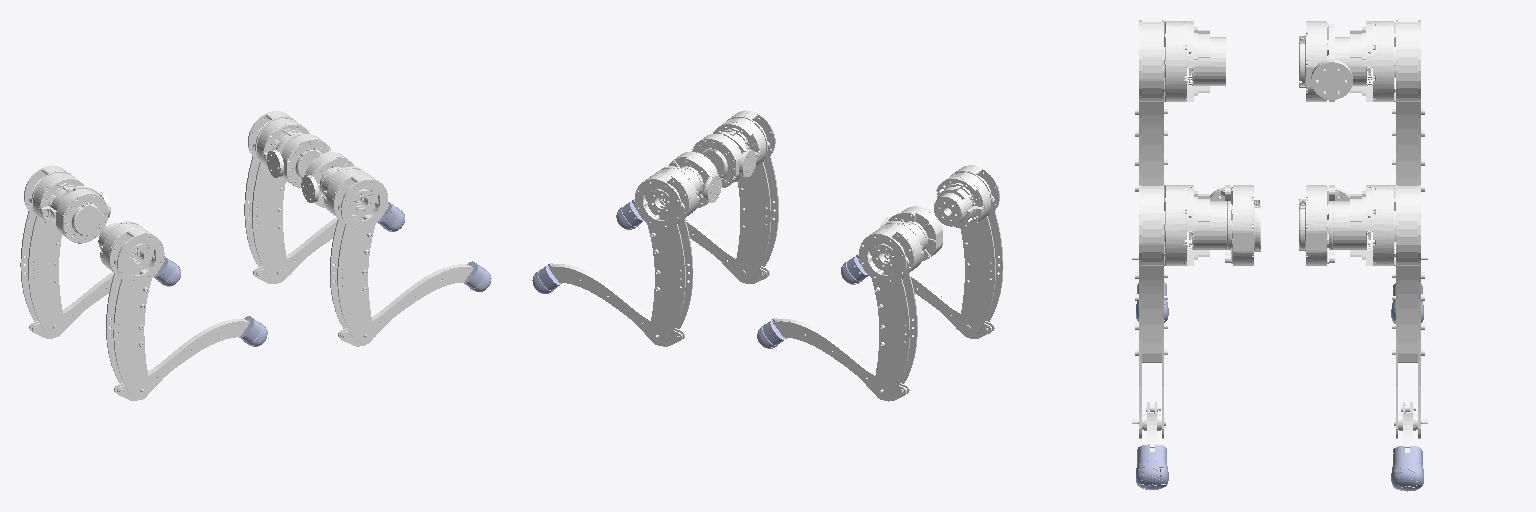
The robot description file, URDF, robot "RC7":
<?xml version="1.0" encoding="utf-8"?>
<!-- This URDF was automatically created by SolidWorks to URDF Exporter! Originally created by Stephen Brawner (brawner@gmail.com) 
     Commit Version: 1.6.0-4-g7f85cfe  Build Version: 1.6.7995.38578
     For more information, please see http://wiki.ros.org/sw_urdf_exporter -->
<robot
  name="RC7">
  <link
    name="base_link">
    <inertial>
      <origin
        xyz="0.048 0.0022145 0.041541"
        rpy="0 0 0" />
      <mass
        value="7.2" />
      <inertia
        ixx="0.0488310"
        ixy="0.0015749"
        ixz="-0.0002747"
        iyy="0.1497042"
        iyz="-0.0000445"
        izz="0.1695514" />
    </inertial>
    <visual>
      <origin
        xyz="0 0 0"
        rpy="0 0 0" />
      <geometry>
        <mesh
          filename="../meshes/base_link.STL" />
      </geometry>
      <material
        name="">
        <color
          rgba="1 1 1 1" />
      </material>
    </visual>
    <collision>
      <origin
        xyz="0 0 0.04290"
        rpy="0 0 0" />
      <geometry>
        <box
          size="0.34 0.20000 0.15980" />
      </geometry>
    </collision>
  </link>
  <link
    name="FL_hip">
    <inertial>
      <origin
        xyz="-0.0053275 -0.01473 -5.5989E-05"
        rpy="0 0 0" />
      <mass
        value="0.75" />
      <inertia
        ixx="0.0005062"
        ixy="0.0000569"
        ixz="0.0000014"
        iyy="0.0009411"
        iyz="-0.0000006"
        izz="0.0006052" />
    </inertial>
    <visual>
      <origin
        xyz="0 0 0"
        rpy="0 0 0" />
      <geometry>
        <mesh
          filename="../meshes/FL_Link.STL" />
      </geometry>
      <material
        name="">
        <color
          rgba="1 1 1 1" />
      </material>
    </visual>
    <!-- <collision>
      <origin
        xyz="0 0 0"
        rpy="0 0 0" />
      <geometry>
        <mesh
          filename="../meshes/FL_Link.STL" />
      </geometry>
    </collision> -->
  </link>
  <joint
    name="FL_hip_joint"
    type="revolute">
    <origin
      xyz="0.23285 0.0625 0.05425"
      rpy="0 0 0" />
    <parent
      link="base_link" />
    <child
      link="FL_hip" />
    <axis
      xyz="1 0 0" />
    <limit
      lower="-1.05"
      upper="1.05"
      effort="23"
      velocity="30" />
  </joint>
  <link
    name="FL_thigh">
    <inertial>
      <origin
        xyz="-0.0019583 -0.025187 -0.035454"
        rpy="0 0 0" />
      <mass
        value="1" />
      <inertia
        ixx="0.0061153"
        ixy="0.0000333"
        ixz="-0.0003151"
        iyy="0.0058528"
        iyz="0.0009368"
        izz="0.0012212" />
    </inertial>
    <visual>
      <origin
        xyz="0 0 0"
        rpy="0 0 0" />
      <geometry>
        <mesh
          filename="../meshes/FL_thigh_Link.STL" />
      </geometry>
      <material
        name="">
        <color
          rgba="1 1 1 1" />
      </material>
    </visual>
    <collision>
      <origin
        xyz="-0.003 -0.008 -0.002"
        rpy="1.57079632679 0 0" />
      <geometry>
        <cylinder
          radius="0.0450"
          length="0.05" />
      </geometry>
    </collision>
    <collision>
      <origin
        xyz="-0.0220 0 -0.1400"
        rpy="0 0 0" />
      <geometry>
        <cylinder
          radius="0.0205"
          length="0.1620" />
      </geometry>
    </collision>
  </link>
  <joint
    name="FL_thigh_joint"
    type="revolute">
    <origin
      xyz="0 0.0904 0"
      rpy="0 0 0" />
    <parent
      link="FL_hip" />
    <child
      link="FL_thigh" />
    <axis
      xyz="0 1 0" />
    <limit
      lower="-1.57"
      upper="3.49"
      effort="23"
      velocity="30" />
  </joint>
  <link
    name="FL_calf">
    <inertial>
      <origin
        xyz="0.017233 1.9015E-06 -0.1092"
        rpy="0 0 0" />
      <mass
        value="0.1" />
      <inertia
        ixx="0.0006180"
        ixy="0.0000000"
        ixz="0.0000898"
        iyy="0.0006417"
        iyz="0.0000000"
        izz="0.0000263" />
    </inertial>
    <visual>
      <origin
        xyz="0 0 0"
        rpy="0 0 0" />
      <geometry>
        <mesh
          filename="../meshes/FL_calf_Link.STL" />
      </geometry>
      <material
        name="">
        <color
          rgba="1 1 1 1" />
      </material>
    </visual>
    <collision>
      <origin
        xyz="0.0155 0 -0.1250"
        rpy="0 0 0" />
      <geometry>
        <cylinder
          radius="0.0125"
          length="0.2500" />
      </geometry>
    </collision>
  </link>
  <joint
    name="FL_calf_joint"
    type="revolute">
    <origin
      xyz="0 0 -0.26"
      rpy="0 0 0" />
    <parent
      link="FL_thigh" />
    <child
      link="FL_calf" />
    <axis
      xyz="0 1 0" />
    <limit
      lower="-2.72"
      upper="-0.84"
      effort="23"
      velocity="30" />
  </joint>
  <link
    name="FL_foot">
    <inertial>
      <origin
        xyz="0.0093418 0.00026524 0.0066036"
        rpy="0 0 0" />
      <mass
        value="0.05" />
      <inertia
        ixx="0.0000114"
        ixy="-0.0000001"
        ixz="-0.0000008"
        iyy="0.0000137"
        iyz="0.0000000"
        izz="0.0000120" />
    </inertial>
    <visual>
      <origin
        xyz="0 0 0"
        rpy="0 0 0" />
      <geometry>
        <mesh
          filename="../meshes/FL_foot_Link.STL" />
      </geometry>
      <material
        name="">
        <color
          rgba="0.79216 0.81961 0.93333 1" />
      </material>
    </visual>
    <collision>
      <origin
        xyz="0.0043 0.0002 0.0050"
        rpy="0 0 0" />
      <geometry>
        <sphere
          radius="0.0212" />
      </geometry>
    </collision>
    <collision>
      <origin
        xyz="0.0205 0.0002 0.035"
        rpy="0 0 0" />
      <geometry>
        <box
          size="0.027 0.020 0.015" />
      </geometry>
    </collision>
  </link>
  <joint
    name="FL_foot_joint"
    type="fixed"
    dont_collapse="true">
    <origin
      xyz="-0.012048 0 -0.25093"
      rpy="0 0 0" />
    <parent
      link="FL_calf" />
    <child
      link="FL_foot" />
    <axis
      xyz="0 0 0" />
  </joint>
  <link
    name="FR_hip">
    <inertial>
      <origin
        xyz="-0.0053275 0.01473 5.6037E-05"
        rpy="0 0 0" />
      <mass
        value="0.75" />
      <inertia
        ixx="0.0005062"
        ixy="-0.0000569"
        ixz="-0.0000014"
        iyy="0.0009411"
        iyz="-0.0000006"
        izz="0.0006052" />
    </inertial>
    <visual>
      <origin
        xyz="0 0 0"
        rpy="0 0 0" />
      <geometry>
        <mesh
          filename="../meshes/FR_Link.STL" />
      </geometry>
      <material
        name="">
        <color
          rgba="1 1 1 1" />
      </material>
    </visual>
    <!-- <collision>
      <origin
        xyz="0 0 0"
        rpy="0 0 0" />
      <geometry>
        <mesh
          filename="../meshes/FR_Link.STL" />
      </geometry>
    </collision> -->
  </link>
  <joint
    name="FR_hip_joint"
    type="revolute">
    <origin
      xyz="0.23285 -0.0625 0.05425"
      rpy="0 0 0" />
    <parent
      link="base_link" />
    <child
      link="FR_hip" />
    <axis
      xyz="1 0 0" />
    <limit
      lower="-1.05"
      upper="1.05"
      effort="23"
      velocity="30" />
  </joint>
  <link
    name="FR_thigh">
    <inertial>
      <origin
        xyz="-0.0019583 0.025187 -0.035454"
        rpy="0 0 0" />
      <mass
        value="1" />
      <inertia
        ixx="0.0061153"
        ixy="-0.0000333"
        ixz="-0.0003151"
        iyy="0.0058528"
        iyz="-0.0009368"
        izz="0.0012212" />
    </inertial>
    <visual>
      <origin
        xyz="0 0 0"
        rpy="0 0 0" />
      <geometry>
        <mesh
          filename="../meshes/FR_thigh_link.STL" />
      </geometry>
      <material
        name="">
        <color
          rgba="1 1 1 1" />
      </material>
    </visual>
    <collision>
      <origin
        xyz="-0.003 0.008 -0.002"
        rpy="1.57079632679 0 0" />
      <geometry>
        <cylinder
          radius="0.0450"
          length="0.05" />
      </geometry>
    </collision>
    <collision>
      <origin
        xyz="-0.0220 0 -0.1400"
        rpy="0 0 0" />
      <geometry>
        <cylinder
          radius="0.0205"
          length="0.1620" />
      </geometry>
    </collision>
  </link>
  <joint
    name="FR_thigh_joint"
    type="revolute">
    <origin
      xyz="0 -0.0904 0"
      rpy="0 0 0" />
    <parent
      link="FR_hip" />
    <child
      link="FR_thigh" />
    <axis
      xyz="0 1 0" />
    <limit
      lower="-1.57"
      upper="3.49"
      effort="23"
      velocity="30" />
  </joint>
  <link
    name="FR_calf">
    <inertial>
      <origin
        xyz="0.017233 1.9015E-06 -0.1092"
        rpy="0 0 0" />
      <mass
        value="0.1" />
      <inertia
        ixx="0.0006180"
        ixy="0.0000000"
        ixz="0.0000898"
        iyy="0.0006417"
        iyz="0.0000000"
        izz="0.0000263" />
    </inertial>
    <visual>
      <origin
        xyz="0 0 0"
        rpy="0 0 0" />
      <geometry>
        <mesh
          filename="../meshes/FR_calf_link.STL" />
      </geometry>
      <material
        name="">
        <color
          rgba="1 1 1 1" />
      </material>
    </visual>
    <collision>
      <origin
        xyz="0.0155 0 -0.1250"
        rpy="0 0 0" />
      <geometry>
        <cylinder
          radius="0.0125"
          length="0.2500" />
      </geometry>
    </collision>
  </link>
  <joint
    name="FR_calf_joint"
    type="revolute">
    <origin
      xyz="0 0 -0.26"
      rpy="0 0 0" />
    <parent
      link="FR_thigh" />
    <child
      link="FR_calf" />
    <axis
      xyz="0 1 0" />
    <limit
      lower="-2.72"
      upper="-0.84"
      effort="23"
      velocity="30" />
  </joint>
  <link
    name="FR_foot">
    <inertial>
      <origin
        xyz="0.0093416 -0.00026524 0.0066039"
        rpy="0 0 0" />
      <mass
        value="0.05" />
      <inertia
        ixx="0.0000114"
        ixy="0.0000001"
        ixz="-0.0000008"
        iyy="0.0000137"
        iyz="0.0000000"
        izz="0.0000120" />
    </inertial>
    <visual>
      <origin
        xyz="0 0 0"
        rpy="0 0 0" />
      <geometry>
        <mesh
          filename="../meshes/FR_foot_link.STL" />
      </geometry>
      <material
        name="">
        <color
          rgba="0.79216 0.81961 0.93333 1" />
      </material>
    </visual>
    <collision>
      <origin
        xyz="0.0043 -0.0002 0.0050"
        rpy="0 0 0" />
      <geometry>
        <sphere
          radius="0.0212" />
      </geometry>
    </collision>
    <collision>
      <origin
        xyz="0.0205 -0.0002 0.035"
        rpy="0 0 0" />
      <geometry>
        <box
          size="0.027 0.020 0.015" />
      </geometry>
    </collision>
  </link>
  <joint
    name="FR_foot_joint"
    type="fixed"
    dont_collapse="true">
    <origin
      xyz="-0.0097399 0 -0.25419"
      rpy="0 0 0" />
    <parent
      link="FR_calf" />
    <child
      link="FR_foot" />
    <axis
      xyz="0 0 0" />
  </joint>
  <link
    name="RL_hip">
    <inertial>
      <origin
        xyz="0.0053275 -0.01473 5.6037E-05"
        rpy="0 0 0" />
      <mass
        value="0.75" />
      <inertia
        ixx="0.0005062"
        ixy="-0.0000569"
        ixz="0.0000014"
        iyy="0.0009411"
        iyz="0.0000006"
        izz="0.0006052" />
    </inertial>
    <visual>
      <origin
        xyz="0 0 0"
        rpy="0 0 0" />
      <geometry>
        <mesh
          filename="../meshes/RL_Link.STL" />
      </geometry>
      <material
        name="">
        <color
          rgba="1 1 1 1" />
      </material>
    </visual>
    <!-- <collision>
      <origin
        xyz="0 0 0"
        rpy="0 0 0" />
      <geometry>
        <mesh
          filename="../meshes/RL_Link.STL" />
      </geometry>
    </collision> -->
  </link>
  <joint
    name="RL_hip_joint"
    type="revolute">
    <origin
      xyz="-0.23285 0.0625000000000006 0.054250000000001"
      rpy="0 0 0" />
    <parent
      link="base_link" />
    <child
      link="RL_hip" />
    <axis
      xyz="1 0 0" />
    <limit
      lower="-1.05"
      upper="1.05"
      effort="23"
      velocity="30" />
  </joint>
  <link
    name="RL_thigh">
    <inertial>
      <origin
        xyz="-0.0019583 -0.025187 -0.035454"
        rpy="0 0 0" />
      <mass
        value="1" />
      <inertia
        ixx="0.0061153"
        ixy="0.0000333"
        ixz="-0.0003151"
        iyy="0.0058528"
        iyz="0.0009368"
        izz="0.0012212" />
    </inertial>
    <visual>
      <origin
        xyz="0 0 0"
        rpy="0 0 0" />
      <geometry>
        <mesh
          filename="../meshes/RL_thigh_link.STL" />
      </geometry>
      <material
        name="">
        <color
          rgba="1 1 1 1" />
      </material>
    </visual>
    <collision>
      <origin
        xyz="-0.003 -0.008 -0.002"
        rpy="1.57079632679 0 0" />
      <geometry>
        <cylinder
          radius="0.0450"
          length="0.05" />
      </geometry>
    </collision>
    <collision>
      <origin
        xyz="-0.0220 0 -0.1400"
        rpy="0 0 0" />
      <geometry>
        <cylinder
          radius="0.0205"
          length="0.1620" />
      </geometry>
    </collision>
  </link>
  <joint
    name="RL_thigh_joint"
    type="revolute">
    <origin
      xyz="0 0.0904 0"
      rpy="0 0 0" />
    <parent
      link="RL_hip" />
    <child
      link="RL_thigh" />
    <axis
      xyz="0 1 0" />
    <limit
      lower="-0.52"
      upper="4.54"
      effort="23"
      velocity="30" />
  </joint>
  <link
    name="RL_calf">
    <inertial>
      <origin
        xyz="0.017233 1.9015E-06 -0.1092"
        rpy="0 0 0" />
      <mass
        value="0.1" />
      <inertia
        ixx="0.0006180"
        ixy="0.0000000"
        ixz="0.0000898"
        iyy="0.0006417"
        iyz="0.0000000"
        izz="0.0000263" />
    </inertial>
    <visual>
      <origin
        xyz="0 0 0"
        rpy="0 0 0" />
      <geometry>
        <mesh
          filename="../meshes/RL_calf_link.STL" />
      </geometry>
      <material
        name="">
        <color
          rgba="1 1 1 1" />
      </material>
    </visual>
    <collision>
      <origin
        xyz="0.0155 0 -0.1250"
        rpy="0 0 0" />
      <geometry>
        <cylinder
          radius="0.0125"
          length="0.2500" />
      </geometry>
    </collision>
  </link>
  <joint
    name="RL_calf_joint"
    type="revolute">
    <origin
      xyz="0 0 -0.26"
      rpy="0 0 0" />
    <parent
      link="RL_thigh" />
    <child
      link="RL_calf" />
    <axis
      xyz="0 1 0" />
    <limit
      lower="-2.72"
      upper="-0.84"
      effort="23"
      velocity="30" />
  </joint>
  <link
    name="RL_foot">
    <inertial>
      <origin
        xyz="0.0093418 0.00026524 0.0066036"
        rpy="0 0 0" />
      <mass
        value="0.05" />
      <inertia
        ixx="0.0000114"
        ixy="-0.0000001"
        ixz="-0.0000008"
        iyy="0.0000137"
        iyz="0.0000000"
        izz="0.0000120" />
    </inertial>
    <visual>
      <origin
        xyz="0 0 0"
        rpy="0 0 0" />
      <geometry>
        <mesh
          filename="../meshes/RL_foot_link.STL" />
      </geometry>
      <material
        name="">
        <color
          rgba="0.79216 0.81961 0.93333 1" />
      </material>
    </visual>
    <collision>
      <origin
        xyz="0.0043 0.0002 0.0050"
        rpy="0 0 0" />
      <geometry>
        <sphere
          radius="0.0216" />
      </geometry>
    </collision>
    <collision>
      <origin
        xyz="0.0205 0.0002 0.035"
        rpy="0 0 0" />
      <geometry>
        <box
          size="0.027 0.020 0.015" />
      </geometry>
    </collision>
  </link>
  <joint
    name="RL_foot_joint"
    type="fixed"
    dont_collapse="true">
    <origin
      xyz="-0.012048 0 -0.25093"
      rpy="0 0 0" />
    <parent
      link="RL_calf" />
    <child
      link="RL_foot" />
    <axis
      xyz="0 0 0" />
  </joint>
  <link
    name="RR_hip">
    <inertial>
      <origin
        xyz="0.0053275 0.01473 -5.6037E-05"
        rpy="0 0 0" />
      <mass
        value="0.75" />
      <inertia
        ixx="0.0005062"
        ixy="0.0000569"
        ixz="-0.0000014"
        iyy="0.0009411"
        iyz="0.0000006"
        izz="0.0006052" />
    </inertial>
    <visual>
      <origin
        xyz="0 0 0"
        rpy="0 0 0" />
      <geometry>
        <mesh
          filename="../meshes/RR_link.STL" />
      </geometry>
      <material
        name="">
        <color
          rgba="1 1 1 1" />
      </material>
    </visual>
    <!-- <collision>
      <origin
        xyz="0 0 0"
        rpy="0 0 0" />
      <geometry>
        <mesh
          filename="../meshes/RR_link.STL" />
      </geometry>
    </collision> -->
  </link>
  <joint
    name="RR_hip_joint"
    type="revolute">
    <origin
      xyz="-0.23285 -0.0625 0.05425"
      rpy="0 0 0" />
    <parent
      link="base_link" />
    <child
      link="RR_hip" />
    <axis
      xyz="1 0 0" />
    <limit
      lower="-1.05"
      upper="1.05"
      effort="23"
      velocity="30" />
  </joint>
  <link
    name="RR_thigh">
    <inertial>
      <origin
        xyz="-0.0019583 0.025187 -0.035454"
        rpy="0 0 0" />
      <mass
        value="1" />
      <inertia
        ixx="0.0061153"
        ixy="-0.0000333"
        ixz="-0.0003151"
        iyy="0.0058528"
        iyz="-0.0009368"
        izz="0.0012212" />
    </inertial>
    <visual>
      <origin
        xyz="0 0 0"
        rpy="0 0 0" />
      <geometry>
        <mesh
          filename="../meshes/RR_thigh_link.STL" />
      </geometry>
      <material
        name="">
        <color
          rgba="1 1 1 1" />
      </material>
    </visual>
    <collision>
      <origin
        xyz="-0.003 0.008 -0.002"
        rpy="1.57079632679 0 0" />
      <geometry>
        <cylinder
          radius="0.0450"
          length="0.05" />
      </geometry>
    </collision>
    <collision>
      <origin
        xyz="-0.0220 0 -0.1400"
        rpy="0 0 0" />
      <geometry>
        <cylinder
          radius="0.0205"
          length="0.1620" />
      </geometry>
    </collision>
  </link>
  <joint
    name="RR_thigh_joint"
    type="revolute">
    <origin
      xyz="0 -0.0904 0"
      rpy="0 0 0" />
    <parent
      link="RR_hip" />
    <child
      link="RR_thigh" />
    <axis
      xyz="0 1 0" />
    <limit
      lower="-0.52"
      upper="4.54"
      effort="23"
      velocity="30" />
  </joint>
  <link
    name="RR_calf">
    <inertial>
      <origin
        xyz="0.017233 1.9015E-06 -0.1092"
        rpy="0 0 0" />
      <mass
        value="0.1" />
      <inertia
        ixx="0.0006180"
        ixy="0.0000000"
        ixz="0.0000898"
        iyy="0.0006417"
        iyz="0.0000000"
        izz="0.0000263" />
    </inertial>
    <visual>
      <origin
        xyz="0 0 0"
        rpy="0 0 0" />
      <geometry>
        <mesh
          filename="../meshes/RR_calf_link.STL" />
      </geometry>
      <material
        name="">
        <color
          rgba="1 1 1 1" />
      </material>
    </visual>
    <collision>
      <origin
        xyz="0.0155 0 -0.1250"
        rpy="0 0 0" />
      <geometry>
        <cylinder
          radius="0.0125"
          length="0.2500" />
      </geometry>
    </collision>
  </link>
  <joint
    name="RR_calf_joint"
    type="revolute">
    <origin
      xyz="0 0 -0.26"
      rpy="0 0 0" />
    <parent
      link="RR_thigh" />
    <child
      link="RR_calf" />
    <axis
      xyz="0 1 0" />
    <limit
      lower="-2.72"
      upper="-0.84"
      effort="23"
      velocity="30" />
  </joint>
  <link
    name="RR_foot">
    <inertial>
      <origin
        xyz="0.0093416 -0.00026524 0.0066039"
        rpy="0 0 0" />
      <mass
        value="0.05" />
      <inertia
        ixx="0.0000114"
        ixy="0.0000001"
        ixz="-0.0000008"
        iyy="0.0000137"
        iyz="0.0000000"
        izz="0.0000120" />
    </inertial>
    <visual>
      <origin
        xyz="0 0 0"
        rpy="0 0 0" />
      <geometry>
        <mesh
          filename="../meshes/RR_foot_link.STL" />
      </geometry>
      <material
        name="">
        <color
          rgba="0.79216 0.81961 0.93333 1" />
      </material>
    </visual>
    <collision>
      <origin
        xyz="0.0043 -0.0002 0.0050"
        rpy="0 0 0" />
      <geometry>
        <sphere
          radius="0.0212" />
      </geometry>
    </collision>
    <collision>
      <origin
        xyz="0.0205 -0.0002 0.035"
        rpy="0 0 0" />
      <geometry>
        <box
          size="0.027 0.020 0.015" />
      </geometry>
    </collision>
  </link>
  <joint
    name="RR_foot_joint"
    type="fixed"
    dont_collapse="true">
    <origin
      xyz="-0.0097399 0 -0.25419"
      rpy="0 0 0" />
    <parent
      link="RR_calf" />
    <child
      link="RR_foot" />
    <axis
      xyz="0 0 0" />
  </joint>
</robot>

--- What the picture shows (computed from the rendered views, not written in the file) ---
3 views of the same robot in one strip: view 1: azimuth 30°, elevation 25°; view 2: azimuth 150°, elevation 25°; view 3: azimuth 270°, elevation 25° (orthographic).
Model RC7 with 17 links and 16 joints (12 revolute, 4 fixed), rooted at base_link, posed all joints at 0 but 4 set to mid-range because 0 is outside their limits (FL_calf_joint = -1.78, FR_calf_joint = -1.78, RL_calf_joint = -1.78, RR_calf_joint = -1.78).
Links seen in each view (by area): view 1: RR_thigh, FR_thigh, RL_thigh, FL_thigh, RL_hip, RR_calf, FL_hip, FR_calf, FR_hip, RL_calf, FL_calf, RR_foot (+1 smaller); view 2: RL_thigh, FL_thigh, RR_thigh, FR_thigh, FL_calf, RL_calf, FR_hip, FL_hip, RL_hip, RR_calf, FR_calf, FL_foot (+1 smaller); view 3: FL_thigh, FR_thigh, RR_thigh, RL_thigh, RL_hip, FL_hip, FR_hip, FR_foot, FL_foot.
Link boxes in pixels (x1=…): RR_thigh: x1=98, y1=221, x2=164, y2=399; FR_thigh: x1=322, y1=166, x2=387, y2=345; RL_thigh: x1=20, y1=165, x2=83, y2=337; FL_thigh: x1=244, y1=111, x2=309, y2=282; RL_hip: x1=56, y1=186, x2=110, y2=243; RR_calf: x1=114, y1=319, x2=249, y2=400; FL_hip: x1=267, y1=132, x2=330, y2=188; FR_calf: x1=338, y1=264, x2=473, y2=346; FR_hip: x1=301, y1=152, x2=354, y2=208; RL_calf: x1=29, y1=260, x2=164, y2=338; FL_calf: x1=253, y1=205, x2=388, y2=283; RR_foot: x1=239, y1=316, x2=267, y2=346; RL_thigh: x1=859, y1=221, x2=924, y2=400; FL_thigh: x1=635, y1=166, x2=700, y2=345; RR_thigh: x1=934, y1=165, x2=1003, y2=337; FR_thigh: x1=713, y1=110, x2=778, y2=282; FL_calf: x1=549, y1=264, x2=684, y2=346; RL_calf: x1=773, y1=319, x2=909, y2=401; FR_hip: x1=692, y1=132, x2=756, y2=187; FL_hip: x1=669, y1=151, x2=721, y2=208; RL_hip: x1=880, y1=206, x2=942, y2=260; RR_calf: x1=858, y1=259, x2=994, y2=338; FR_calf: x1=634, y1=205, x2=769, y2=283; FL_foot: x1=532, y1=263, x2=561, y2=293; FL_thigh: x1=1334, y1=185, x2=1427, y2=438; FR_thigh: x1=1132, y1=185, x2=1225, y2=438; RR_thigh: x1=1132, y1=20, x2=1225, y2=259; RL_thigh: x1=1335, y1=20, x2=1427, y2=259; RL_hip: x1=1299, y1=21, x2=1352, y2=101; FL_hip: x1=1299, y1=185, x2=1349, y2=265; FR_hip: x1=1210, y1=185, x2=1260, y2=265; FR_foot: x1=1136, y1=444, x2=1168, y2=489; FL_foot: x1=1391, y1=446, x2=1423, y2=491.
Size in the robot's own frame: 0.7899 by 0.3556 by 0.3343 metres.
15 mesh visuals loaded from 17 distinct referenced files (15 binary STL); not drawn: 2 (reference not matched to a file when rendering).
